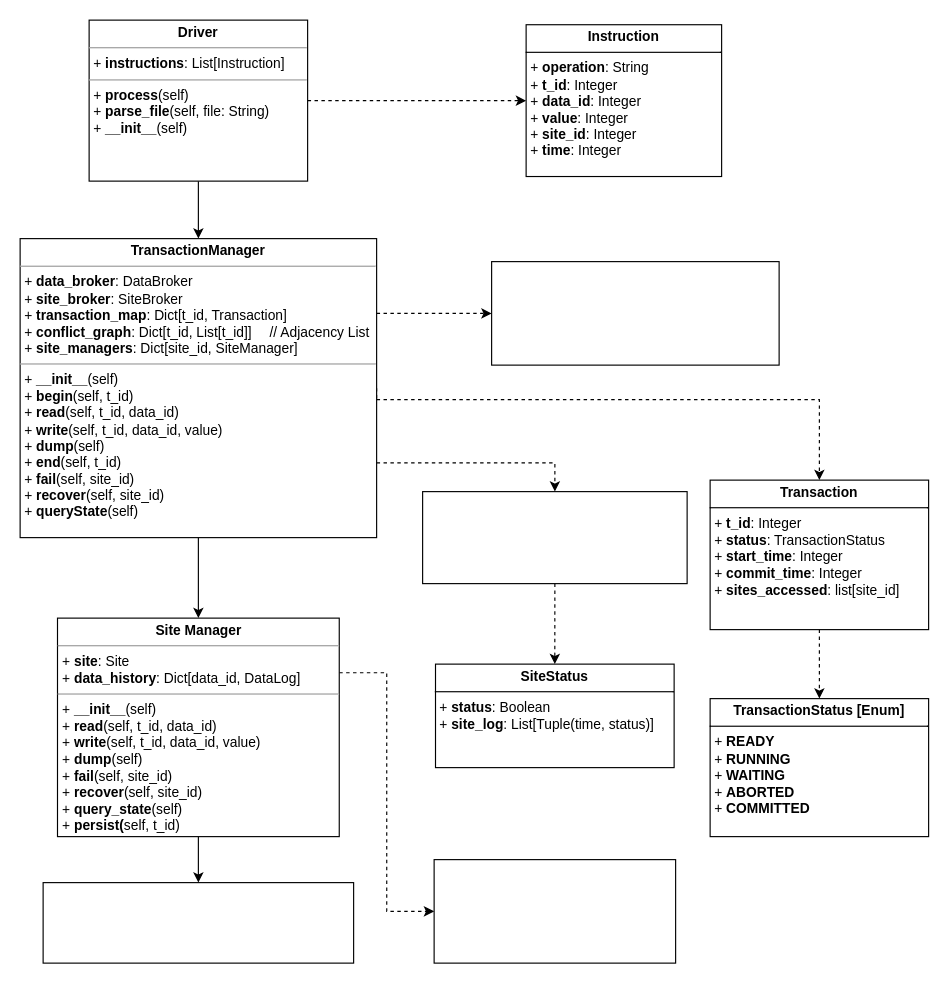
This 949x983 diagram has some shape labels left out. The box of each missing label's shape, as (x1, y1, x2, y2) in pixels:
DataBroker + data_map : Dict[data_id, List[site_id]]: (490, 260, 779, 365)
DataLog + log : List[Tuple(time, value, t_id))]: (433, 858, 676, 963)
Site + side_id : Integer + site_data : Dict[data_id, last_committed_value]: (42, 881, 354, 963)
SiteBroker + site_map : Dict[site_id, SiteStatus]: (421, 490, 687, 584)
